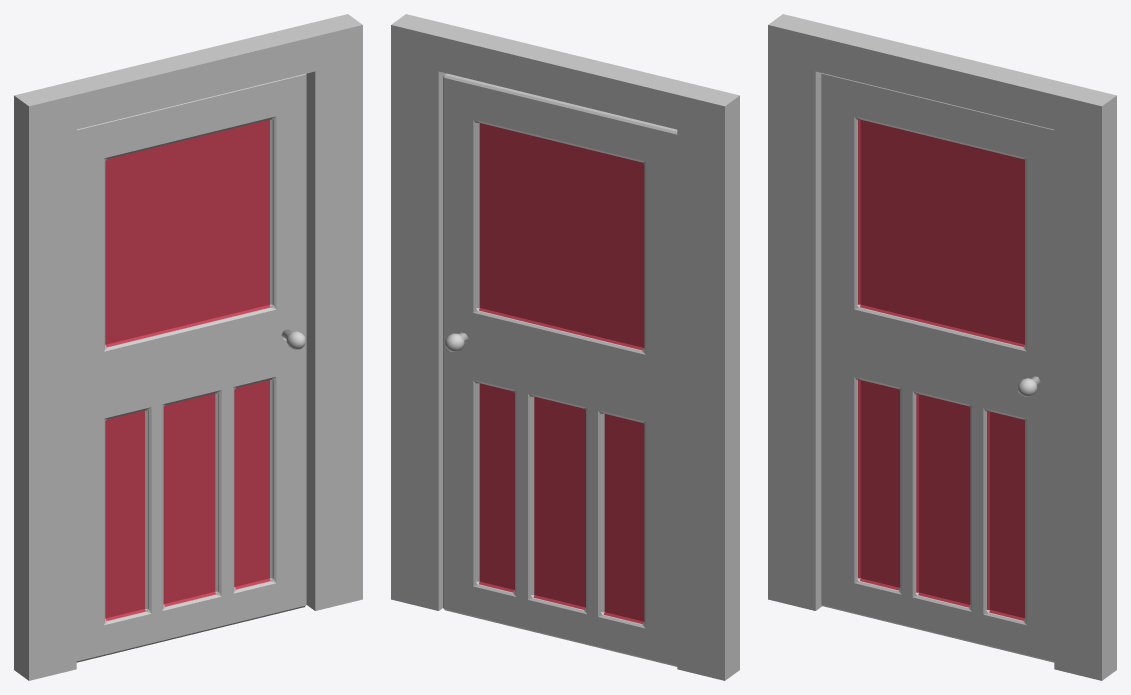
File: Door.fbx
3 renders of one model, left to right at view 1: azimuth 30°, elevation 25°; view 2: azimuth 150°, elevation 25°; view 3: azimuth 330°, elevation 25°, orthographic.
Parts seen in each view (by area): view 1: Door, Door-Border; view 2: Door, Door-Border; view 3: Door, Door-Border.
Boxes of the visible parts, left/top/right/bottom form: Door: left=76, top=73, right=306, bottom=662; Door-Border: left=14, top=14, right=362, bottom=680; Door: left=443, top=73, right=677, bottom=666; Door-Border: left=391, top=14, right=739, bottom=680; Door: left=821, top=73, right=1054, bottom=662; Door-Border: left=768, top=14, right=1116, bottom=680.
Bounding box in the file's own units: 2.94 × 4.84 × 0.558.
